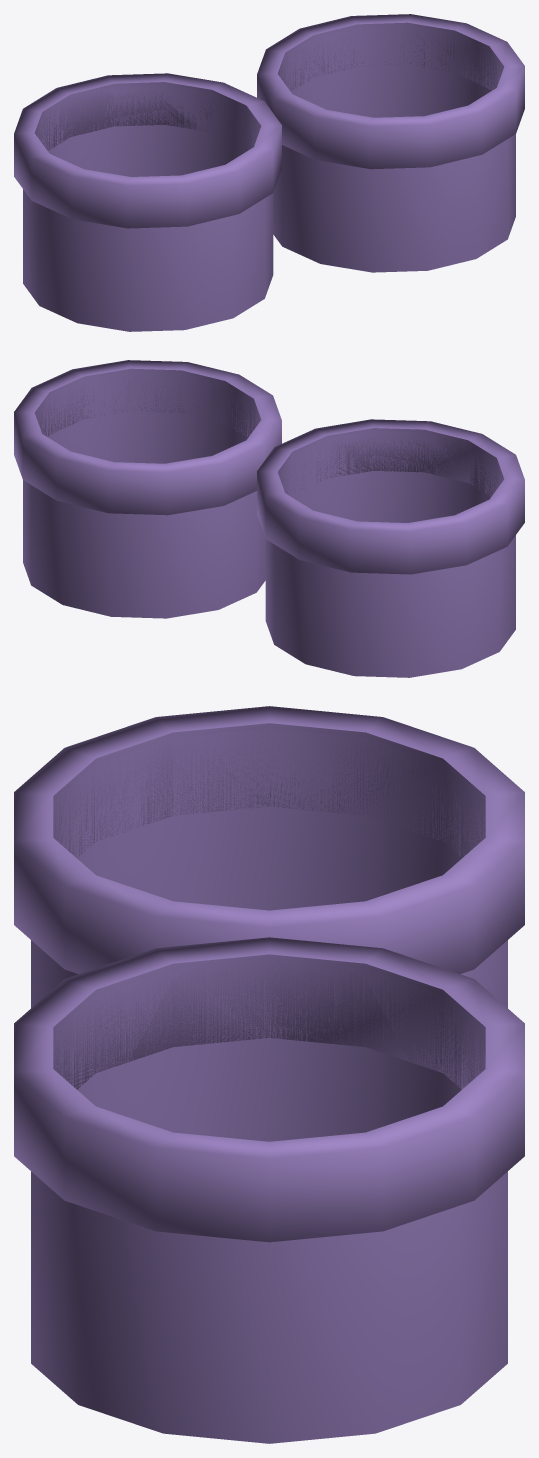
File: color_blocked_socks.glb
3 views of the same model, one above another, from view 1: azimuth 30°, elevation 25°; view 2: azimuth 150°, elevation 25°; view 3: azimuth 270°, elevation 25° (orthographic). The views are drawn at different scales.
Parts seen in each view (by area): view 1: color_blocked_socks_LegL, color_blocked_socks_LegR; view 2: color_blocked_socks_LegL, color_blocked_socks_LegR; view 3: color_blocked_socks_LegR, color_blocked_socks_LegL.
Part boxes in pixels (bbox=[...]): color_blocked_socks_LegL: bbox=[14, 73, 281, 331]; color_blocked_socks_LegR: bbox=[257, 14, 524, 272]; color_blocked_socks_LegL: bbox=[257, 419, 524, 677]; color_blocked_socks_LegR: bbox=[14, 360, 281, 618]; color_blocked_socks_LegR: bbox=[14, 937, 524, 1443]; color_blocked_socks_LegL: bbox=[14, 706, 524, 1007].
Bounding box in the file's own units: 0.372 × 0.112 × 0.1774.
